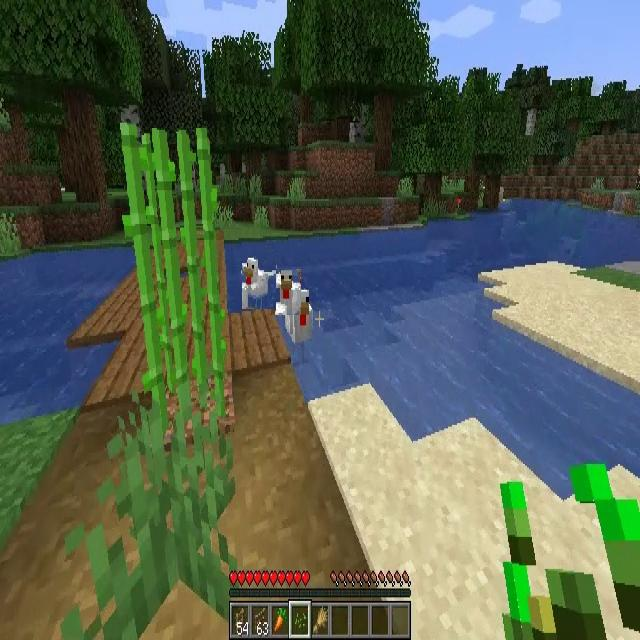duck: (242, 256, 276, 309), (285, 289, 313, 345), (271, 269, 301, 315)
